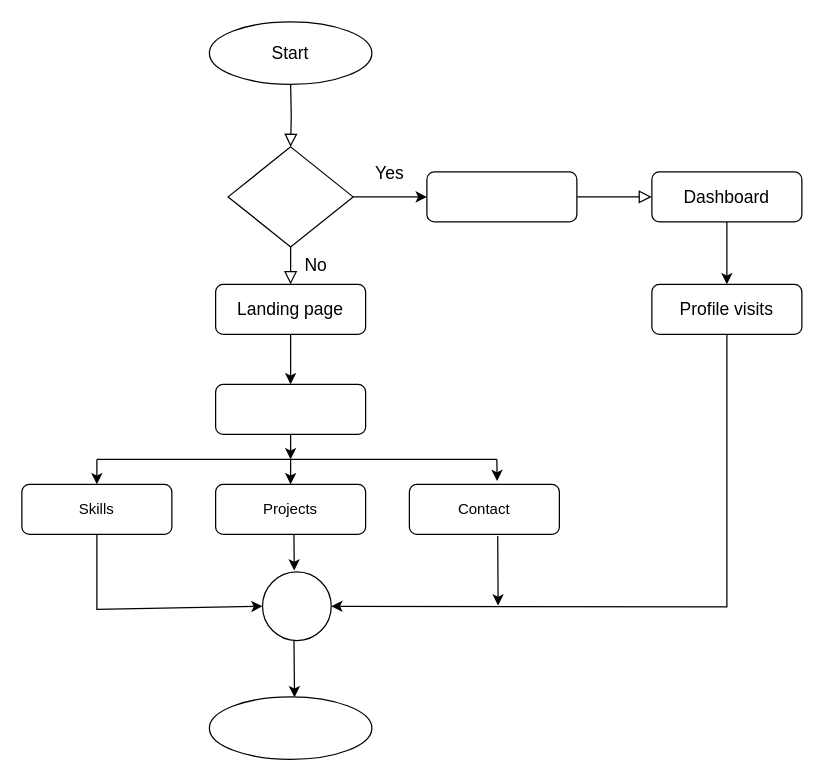
Some shapes in this 824 by 781 pixel diagram are drawn without their labels. The centre of each missing label's shape, as x and y in pixels:
"About me" goes at [290,408].
"Admin?" goes at [290,196].
"Login" goes at [501,196].
"Stop" goes at [290,727].
